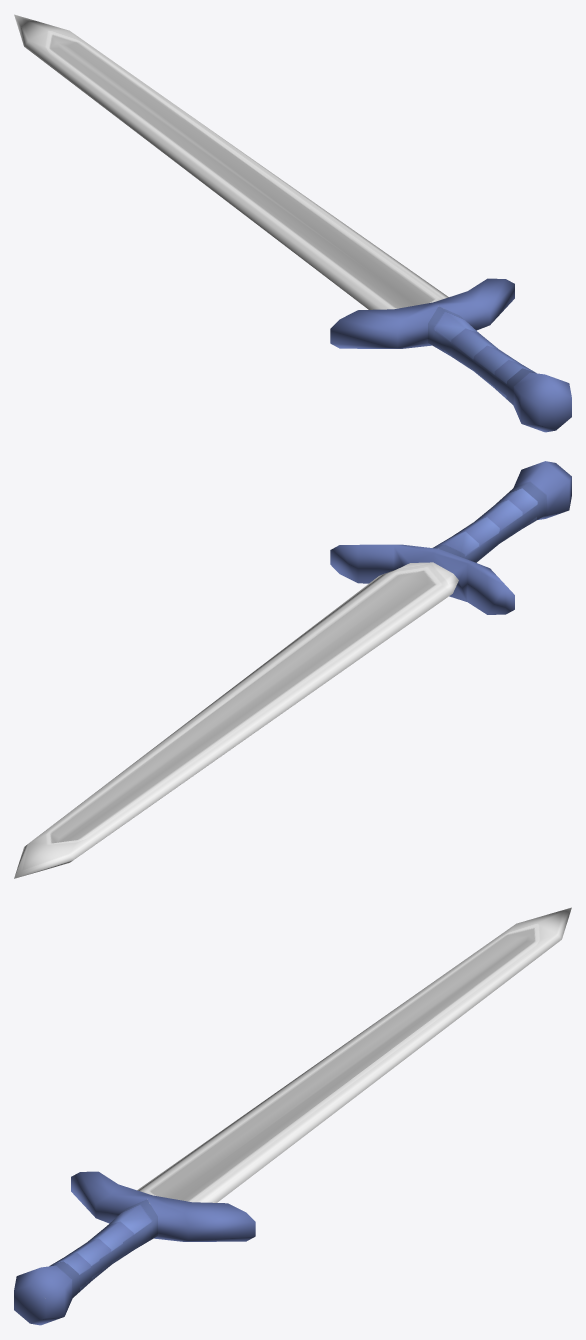
File: Sword.obj
3 renders of one model, top to bottom at view 1: azimuth 30°, elevation 25°; view 2: azimuth 150°, elevation 25°; view 3: azimuth 330°, elevation 25°, orthographic.
Parts seen in each view (by area): view 1: Sword_Sword_Cylinder.003; view 2: Sword_Sword_Cylinder.003; view 3: Sword_Sword_Cylinder.003.
Part boxes in pixels (x1,y1,x2,y2): Sword_Sword_Cylinder.003: (14, 14, 571, 432); Sword_Sword_Cylinder.003: (14, 461, 571, 878); Sword_Sword_Cylinder.003: (14, 907, 571, 1325).
Bounding box in the file's own units: 0.3936 × 0.1181 × 2.
Materials: 1 (1 with a texture image).
